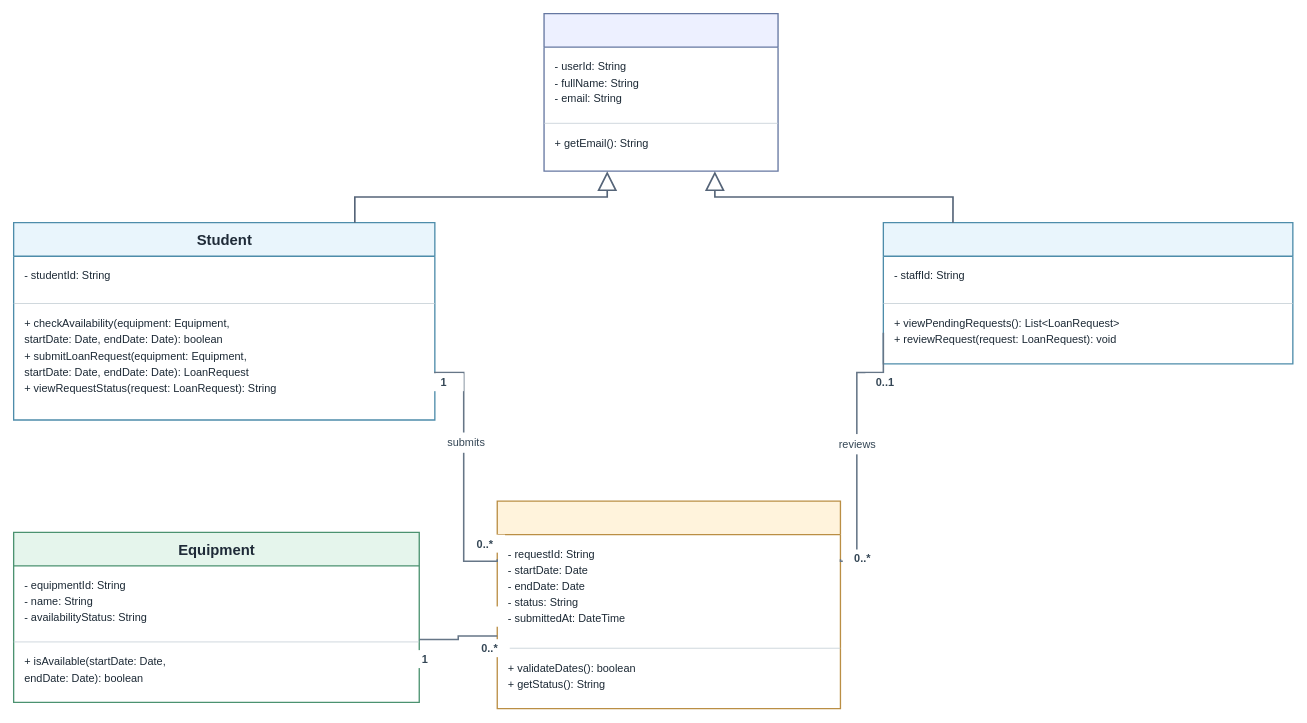
Some shapes in this 1307 by 723 pixel diagram are drawn without their labels. Each missing label, with the box of its shape:
for equipment: (420, 606, 505, 626)
LabStaff: (882, 222, 1293, 364)
LoanRequest: (496, 500, 841, 709)
«abstract» User: (543, 13, 778, 172)
